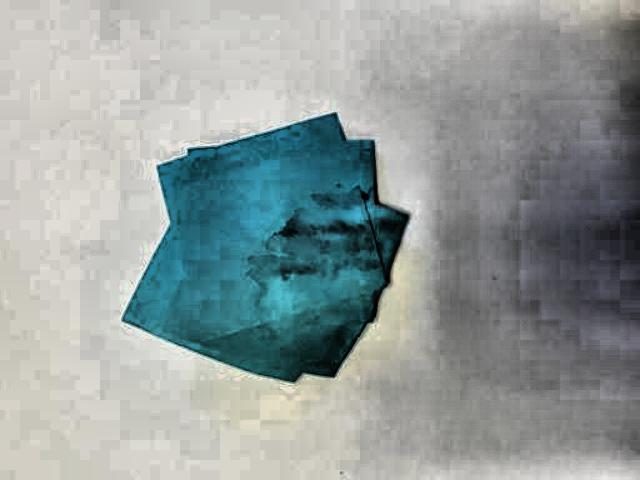Paper: (114, 109, 407, 396)
